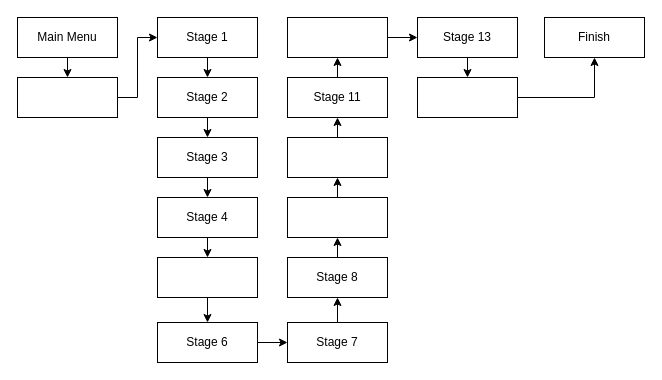
Image size: 662x380. Some labels were removed from this diagram. Here are the shapes that lost their labels. From the top down, the box of each, then its label:
(286, 16, 388, 58): Stage 12
(16, 76, 118, 118): Main Game
(416, 76, 518, 118): Boss
(286, 136, 388, 178): Stage 10
(286, 196, 388, 238): Stage 9
(156, 256, 258, 298): Stage 5
